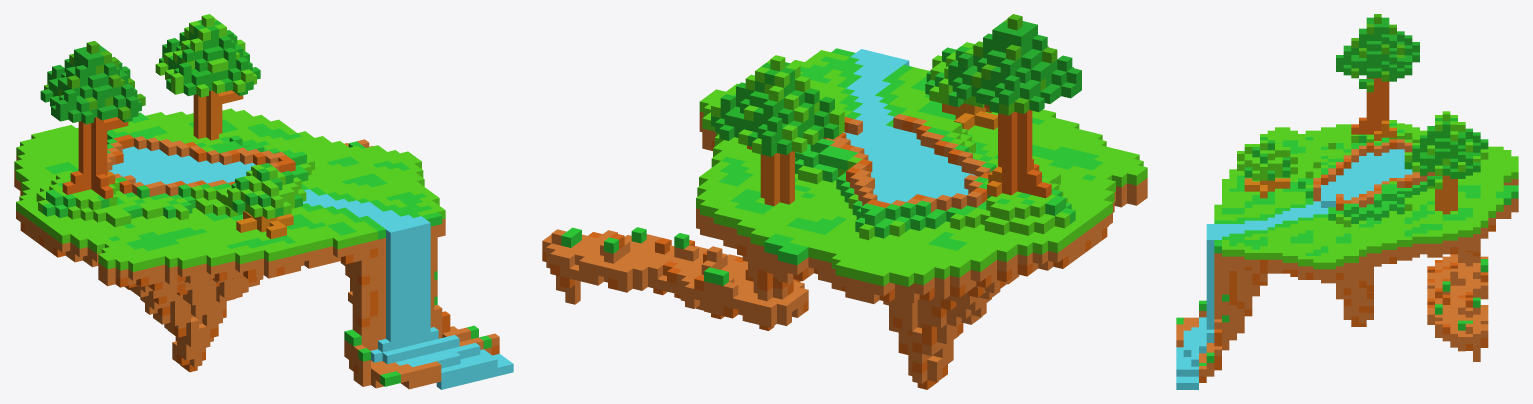
Rendered from 3dLakeLowPoly.fbx.
3 views of the same model, side by side, from view 1: azimuth 30°, elevation 25°; view 2: azimuth 150°, elevation 25°; view 3: azimuth 270°, elevation 25° (orthographic). The views are drawn at different scales.
Visible parts, largest first — view 1: Sky_rock, Tree_cone_3, Tree_cone_2, Tree_cone_1; view 2: Sky_rock, Tree_cone_3, Tree_cone_2, Tree_cone_1; view 3: Sky_rock, Tree_cone_3, Tree_cone_2, Tree_cone_1.
Part boxes in pixels (x1=…): Sky_rock: x1=14, y1=108, x2=513, y2=389; Tree_cone_3: x1=40, y1=41, x2=145, y2=199; Tree_cone_2: x1=155, y1=14, x2=260, y2=140; Tree_cone_1: x1=223, y1=163, x2=306, y2=238; Sky_rock: x1=542, y1=48, x2=1147, y2=389; Tree_cone_3: x1=948, y1=14, x2=1081, y2=198; Tree_cone_2: x1=711, y1=55, x2=844, y2=206; Tree_cone_1: x1=925, y1=42, x2=997, y2=129; Sky_rock: x1=1176, y1=120, x2=1518, y2=389; Tree_cone_3: x1=1336, y1=14, x2=1419, y2=140; Tree_cone_2: x1=1404, y1=111, x2=1488, y2=214; Tree_cone_1: x1=1237, y1=137, x2=1297, y2=198.
Bounding box in the file's own units: 490 × 400 × 450.
